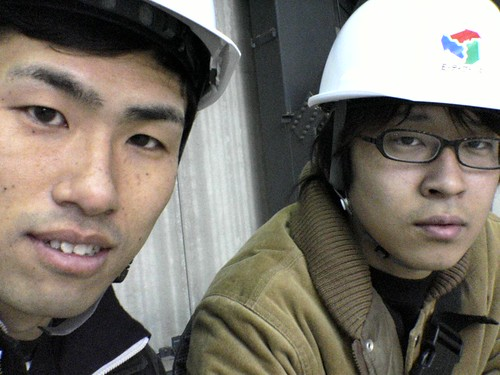person hardhat: (1, 1, 224, 353), (296, 1, 500, 375)
